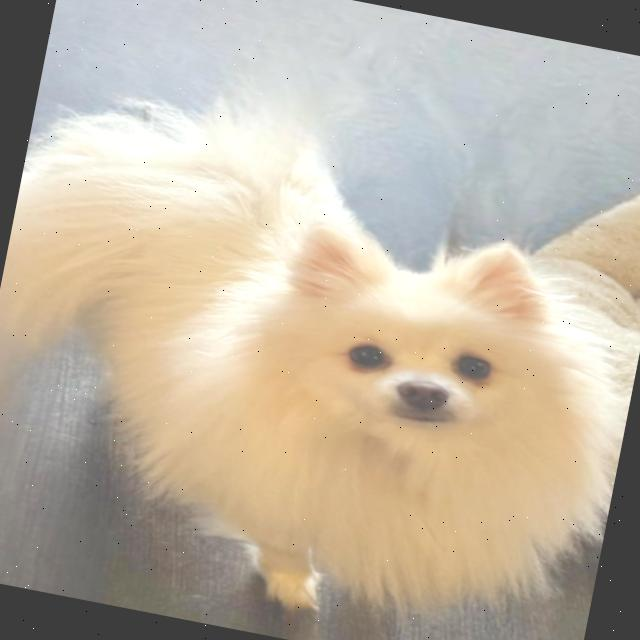pomeranian_dog: (218, 187, 633, 532)
